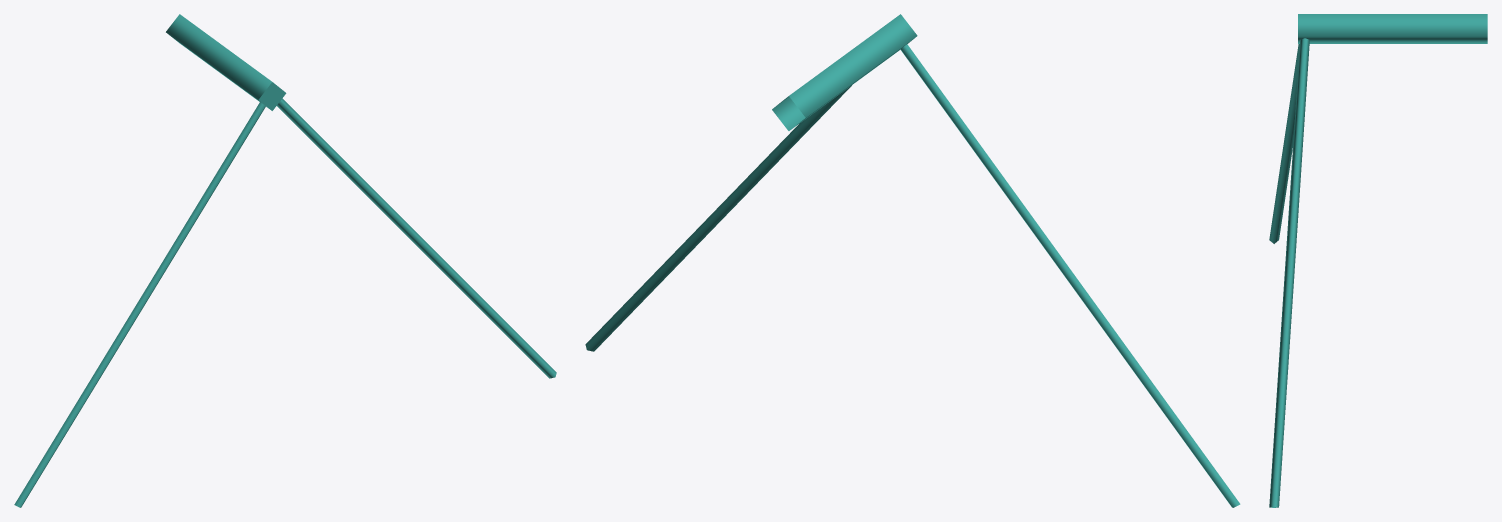
File: SignHolderA_1.fbx
3 renders of one model, left to right at view 1: azimuth 30°, elevation 25°; view 2: azimuth 150°, elevation 25°; view 3: azimuth 270°, elevation 25°, orthographic. The views are drawn at different scales.
Parts seen in each view (by area): view 1: SignHolderA_1; view 2: SignHolderA_1; view 3: SignHolderA_1.
Part boxes in pixels (x1,y1,x2,y2): SignHolderA_1: [14, 14, 556, 507]; SignHolderA_1: [585, 14, 1240, 507]; SignHolderA_1: [1269, 14, 1487, 507].
Bounding box in the file's own units: 76.39 × 47.5 × 26.03.
